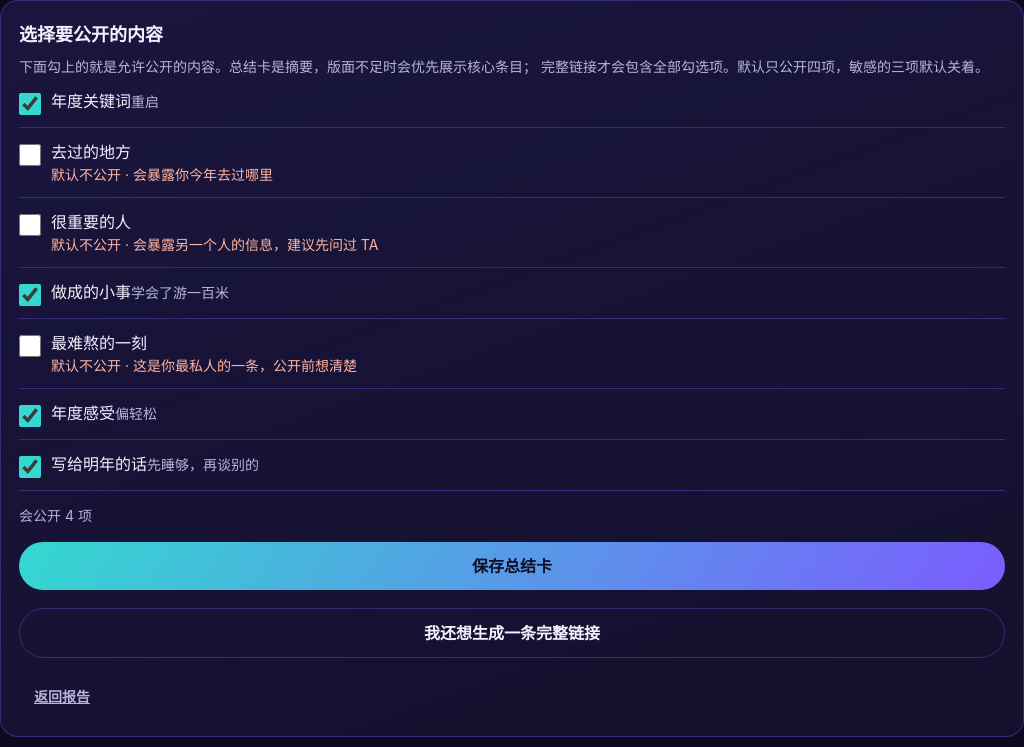
Scenario: SharePrivacyScreen › 完整链接默认折叠，展开后仍需二次确认
The width and height of the screenshot is (1024, 747).
Expected: the button "生成链接并复制" is not shown
Step 1. Click the button "我还想生成一条完整链接" → (512, 633), box [19,608,1005,658]
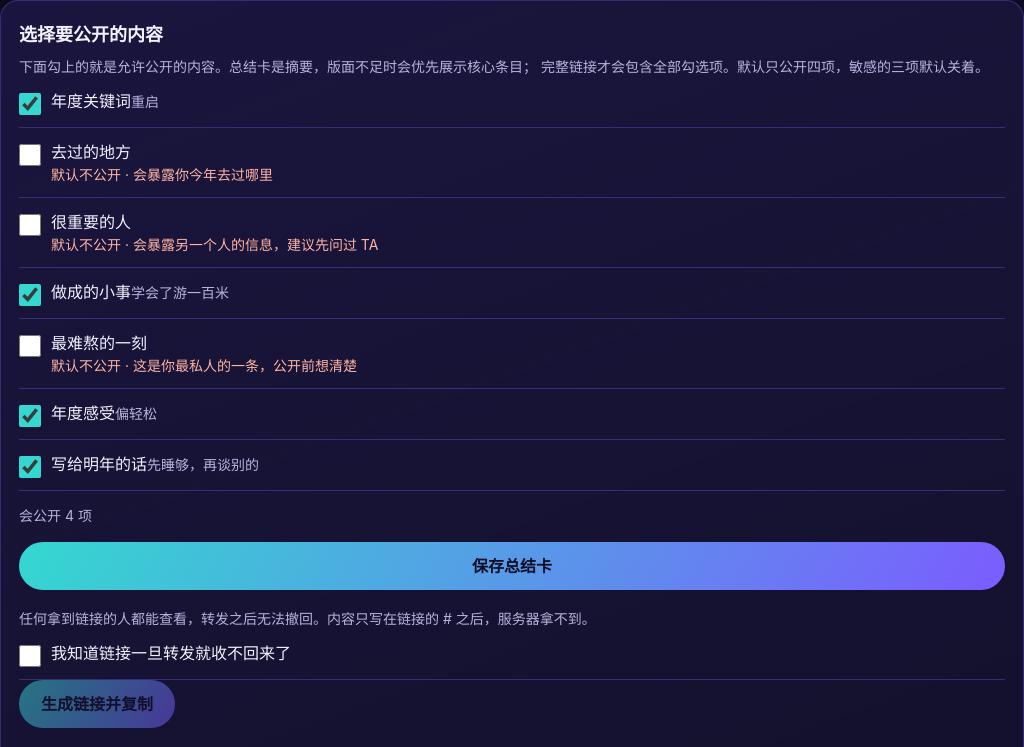
Now the text "任何拿到链接的人都能查看，转发之后无法撤回。内容只写在链接的 # 之后，服务器拿不到。" is shown, box [19,610,596,627]
Now the button "生成链接并复制" is disabled, box [19,680,175,728]
Step 2. Click the checkbox labelled "我知道链接一旦转发就收不回来了" → (30, 656), box [19,645,41,667]
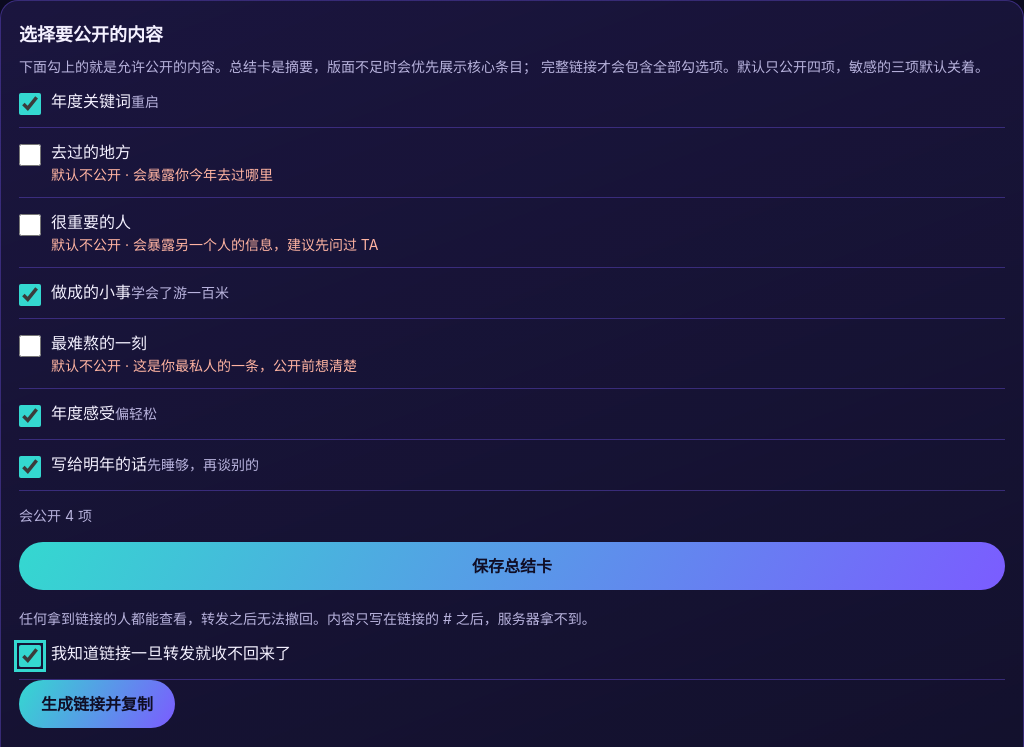
Now the button "生成链接并复制" is enabled, box [19,680,175,728]
